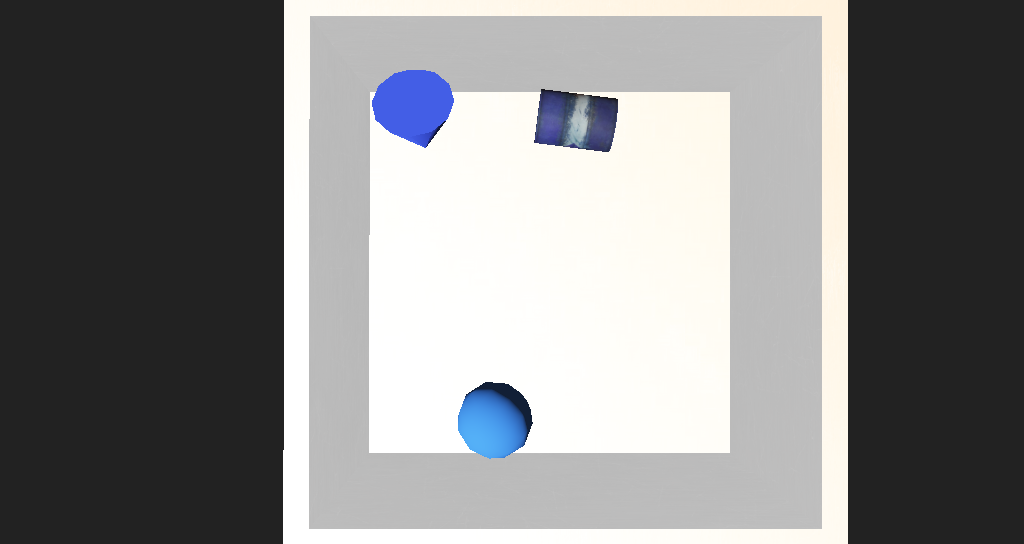cone: (492, 160, 559, 203)
cylinder: (360, 148, 435, 215)
sphere: (424, 329, 492, 377)
